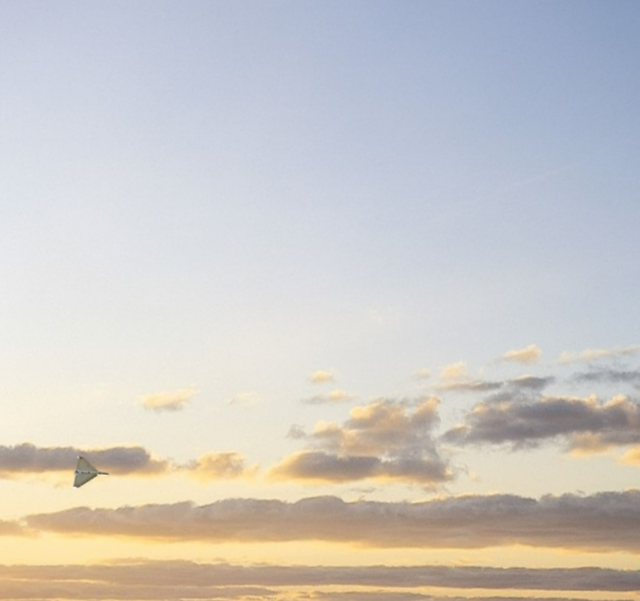military drone: (72, 455, 109, 488)
